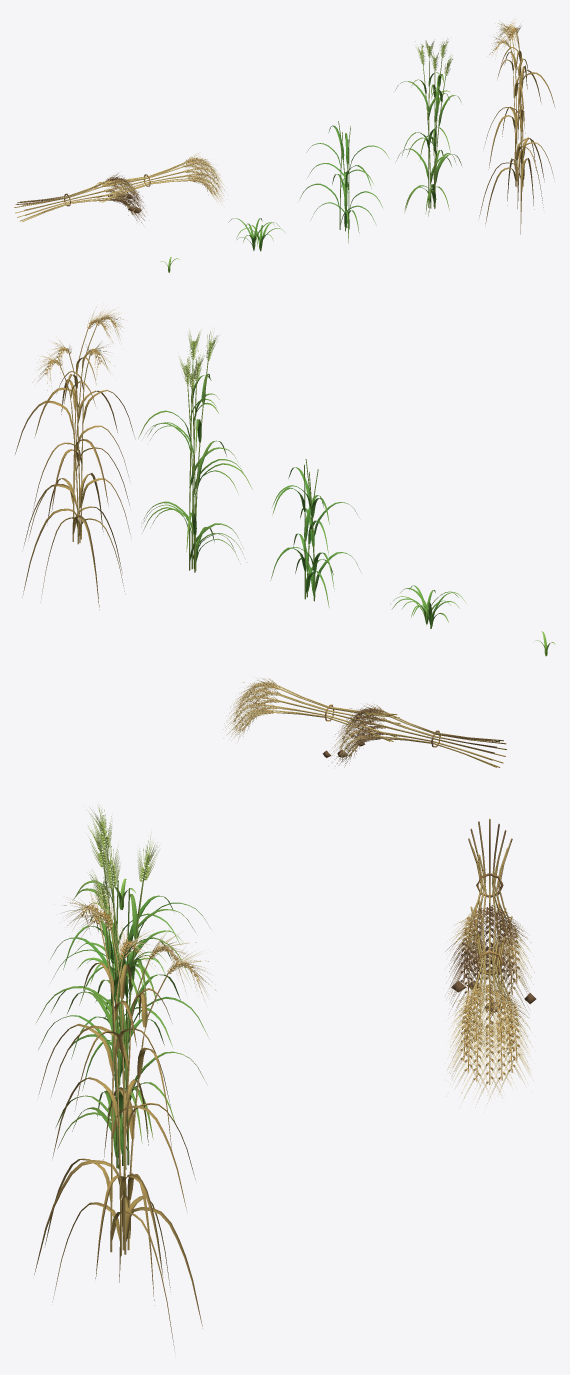
The model's file is fieldworks_wheat.glb.
3 renders of one model, top to bottom at view 1: azimuth 30°, elevation 25°; view 2: azimuth 150°, elevation 25°; view 3: azimuth 270°, elevation 25°, orthographic. The views are drawn at different scales.
Parts seen in each view (by area): view 1: wheat_stage5_ripe, wheat_stage4_heading, wheat_item_dirty, wheat_item_washed, wheat_stage3_stem_extension, wheat_stage2_tillering; view 2: wheat_stage5_ripe, wheat_stage4_heading, wheat_item_dirty, wheat_item_washed, wheat_stage3_stem_extension, wheat_stage2_tillering; view 3: wheat_stage5_ripe, wheat_stage4_heading, wheat_item_washed, wheat_item_dirty, wheat_stage3_stem_extension.
Part boxes in pixels (x1,y1,x2,y2): wheat_stage5_ripe: [479, 20, 555, 234]; wheat_stage4_heading: [395, 38, 461, 216]; wheat_item_dirty: [14, 173, 146, 223]; wheat_item_washed: [94, 153, 227, 204]; wheat_stage3_stem_extension: [300, 121, 389, 243]; wheat_stage2_tillering: [228, 218, 285, 251]; wheat_stage5_ripe: [15, 306, 135, 609]; wheat_stage4_heading: [138, 330, 252, 572]; wheat_item_dirty: [322, 703, 506, 767]; wheat_item_washed: [223, 678, 400, 741]; wheat_stage3_stem_extension: [270, 459, 360, 607]; wheat_stage2_tillering: [390, 585, 466, 628]; wheat_stage5_ripe: [34, 884, 216, 1348]; wheat_stage4_heading: [36, 805, 206, 1169]; wheat_item_washed: [445, 896, 533, 1107]; wheat_item_dirty: [443, 818, 536, 1023]; wheat_stage3_stem_extension: [38, 872, 210, 1090].
Size of the model in its own units: 2.78 by 1.32 by 1.37.
